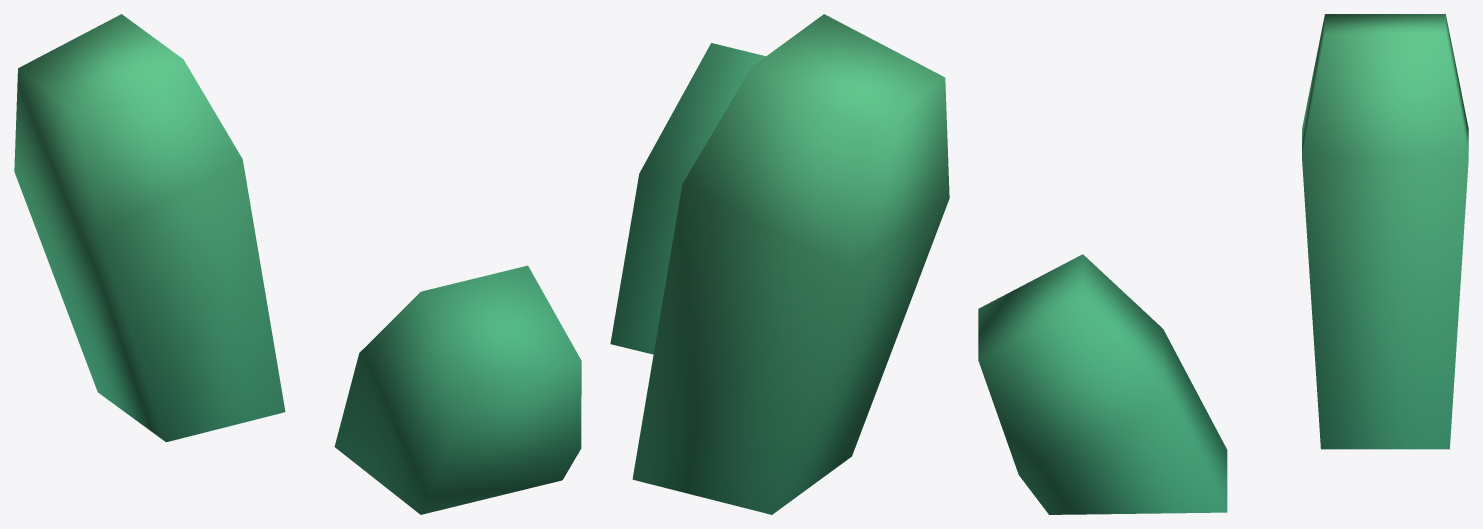
The model's file is GrassSmall.fbx.
3 views of the same model, side by side, from view 1: azimuth 30°, elevation 25°; view 2: azimuth 150°, elevation 25°; view 3: azimuth 270°, elevation 25° (orthographic). The views are drawn at different scales.
Visible parts, largest first — view 1: grass-small; view 2: grass-small; view 3: grass-small.
Boxes of the visible parts, x1,y1,x2,y2 form: grass-small: (14,14,581,514); grass-small: (610,14,949,514); grass-small: (978,14,1468,514).
Bounding box in the file's own units: 24.77 × 25.81 × 31.29.
